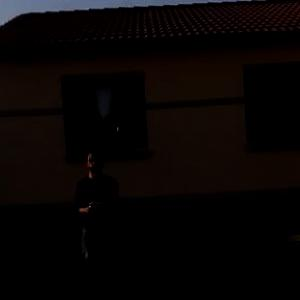follow: (72, 141, 126, 299)
